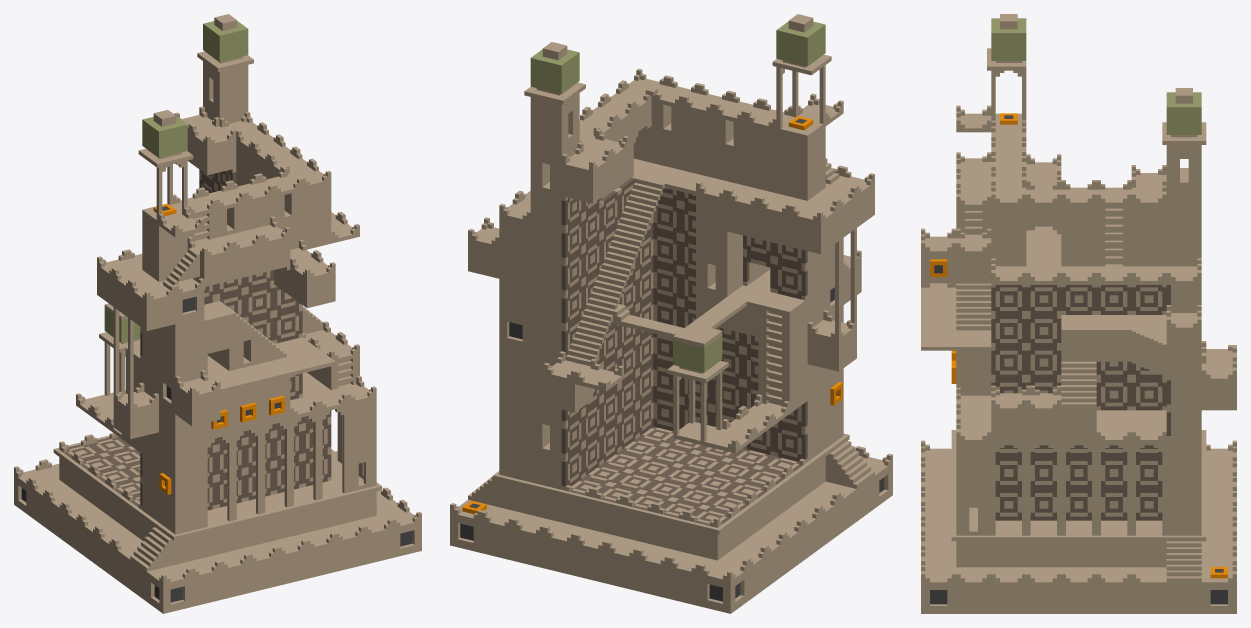
File: monu10.obj
3 views of the same model, side by side, from view 1: azimuth 30°, elevation 25°; view 2: azimuth 150°, elevation 25°; view 3: azimuth 270°, elevation 25° (orthographic). The views are drawn at different scales.
Size of the model in its own units: 7.2 by 12.2 by 7.2.
1 material, 1 textured.
